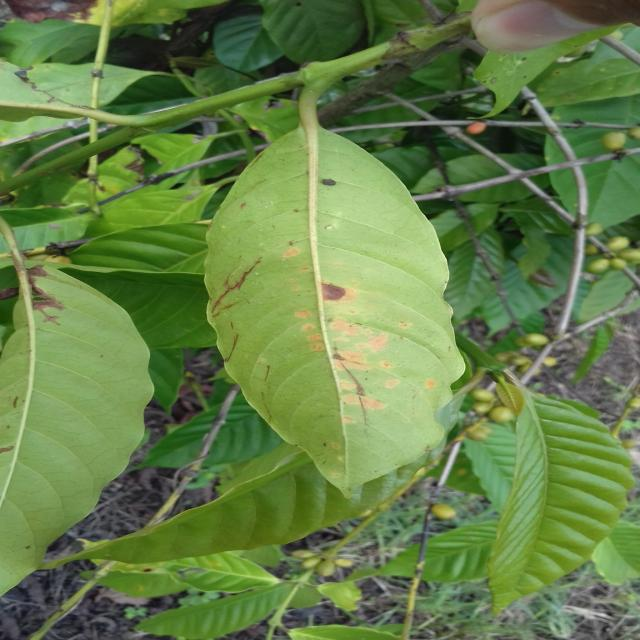Enfermedad-Roya: (202, 124, 470, 497)
